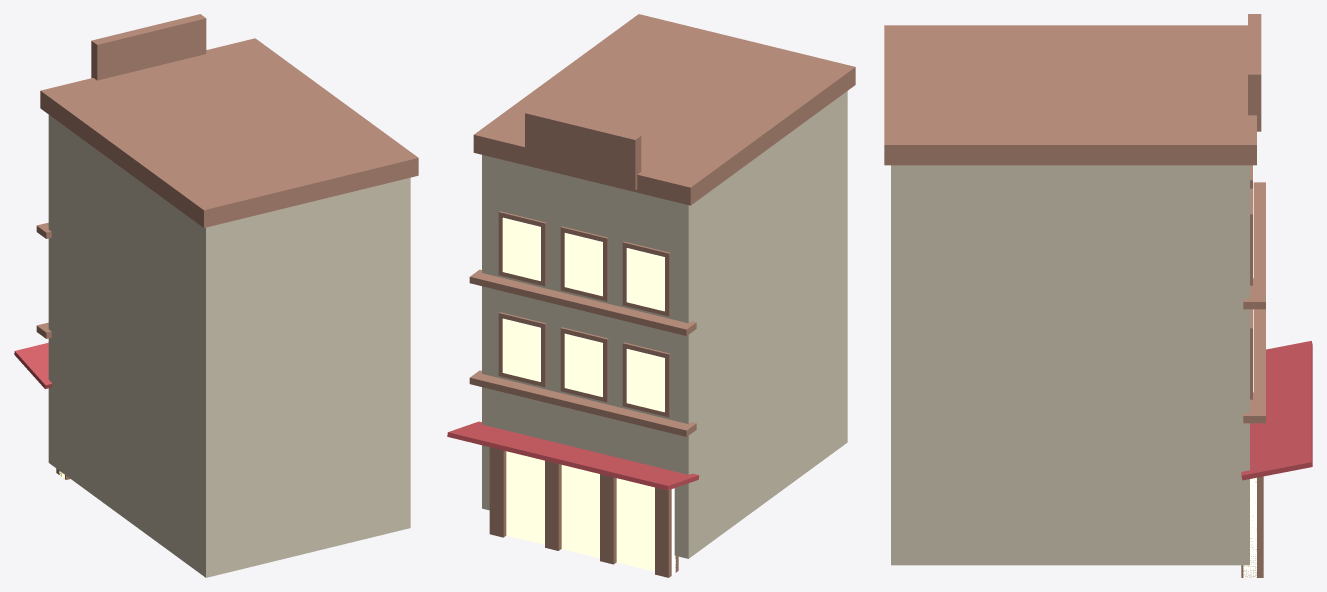
Rendered from shophouse.glb.
The picture shows the model from 3 angles, left to right: view 1: azimuth 30°, elevation 25°; view 2: azimuth 150°, elevation 25°; view 3: azimuth 270°, elevation 25°; orthographic projection. The views are drawn at different scales.
Parts seen in each view (by area): view 1: shophouse; view 2: shophouse; view 3: shophouse.
Boxes of the visible parts, x1,y1,x2,y2 form: shophouse: [14, 14, 418, 577]; shophouse: [447, 14, 855, 577]; shophouse: [884, 14, 1312, 577].
Size of the model in its own units: 6.4 by 11.9 by 9.55.
